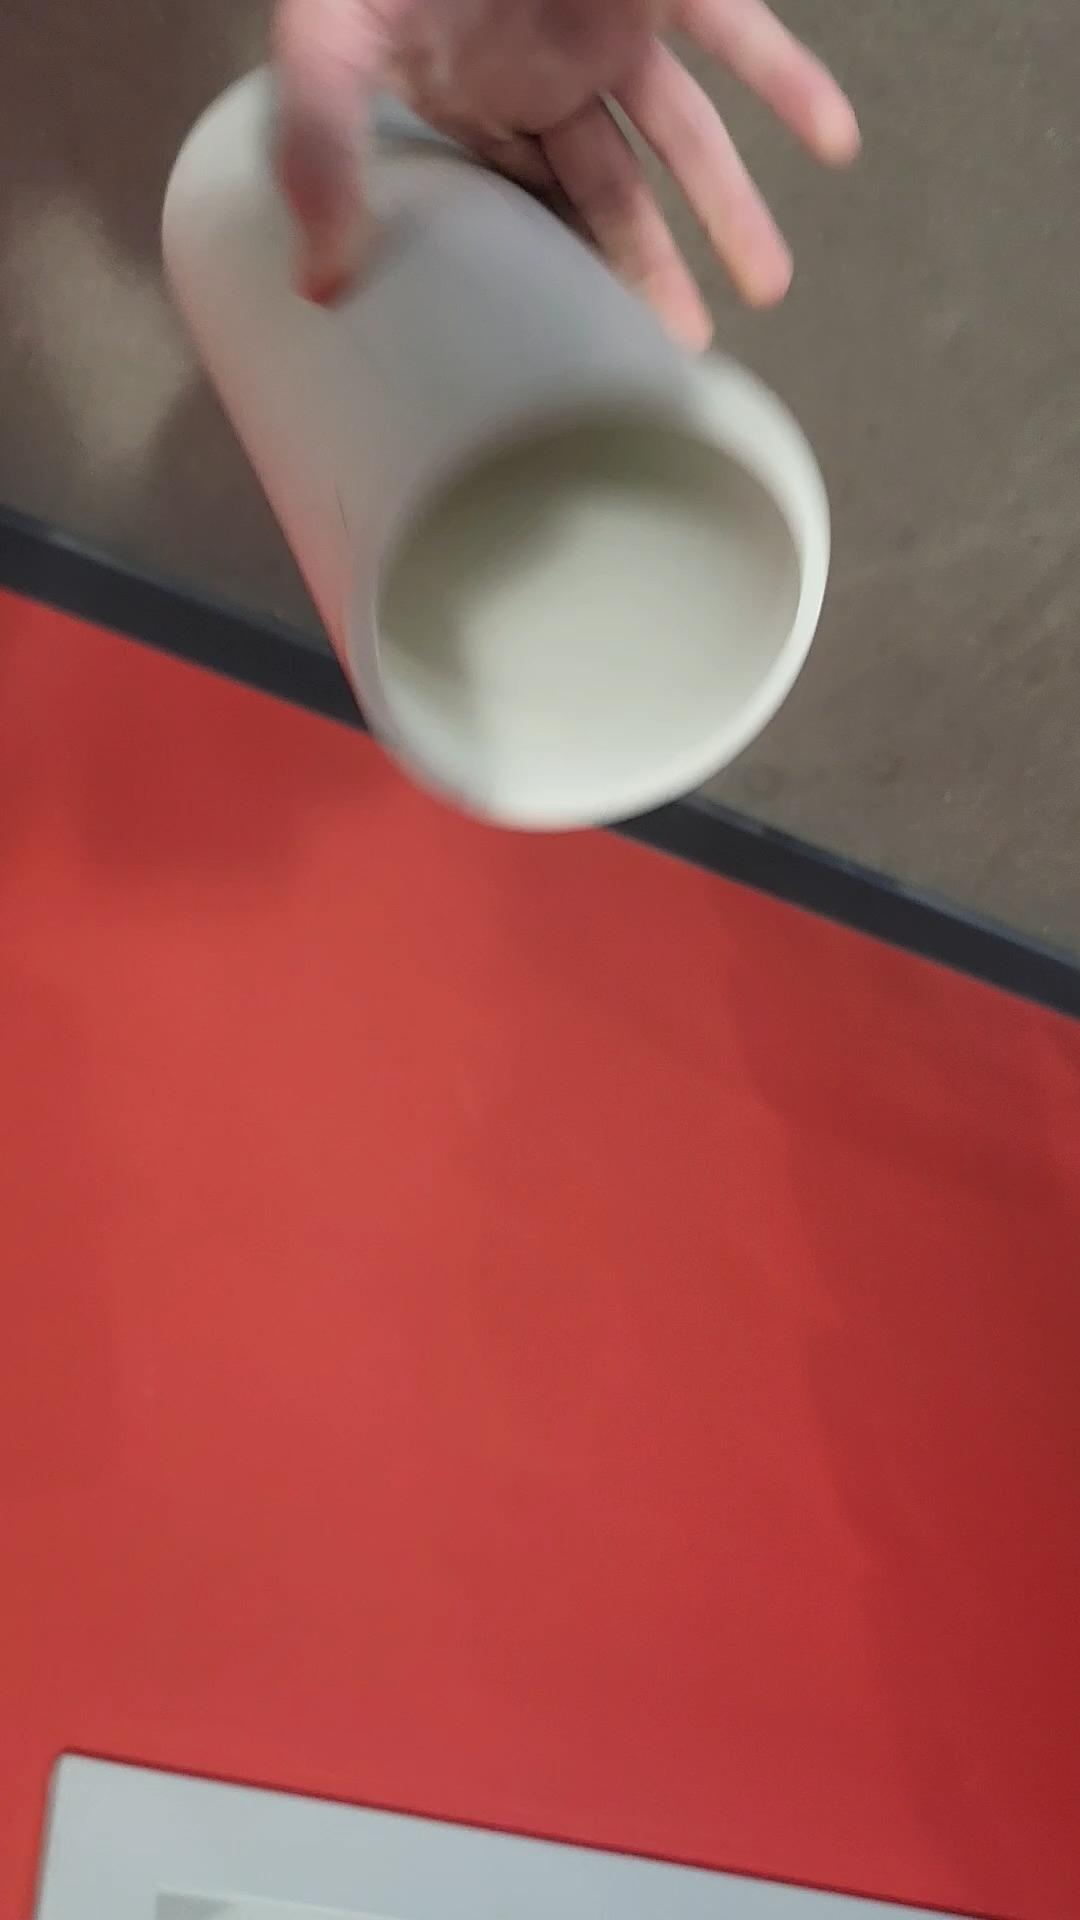coral: (157, 61, 823, 829)
